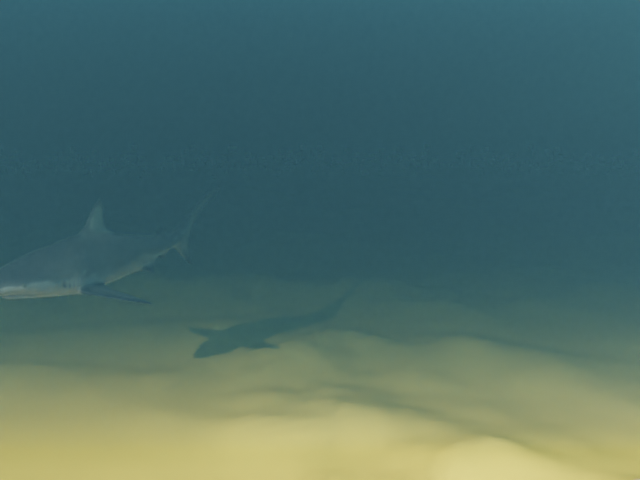Carribean Shark.001: (0, 186, 220, 304)
